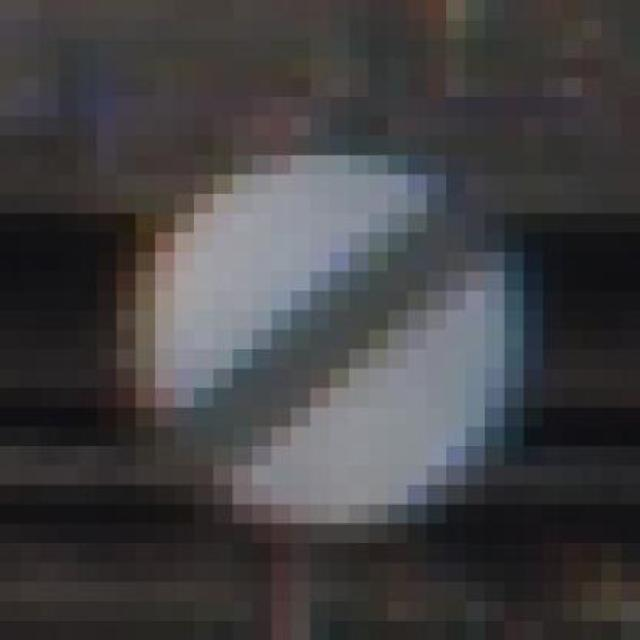End of all speed and passing limits: (116, 97, 544, 543)
